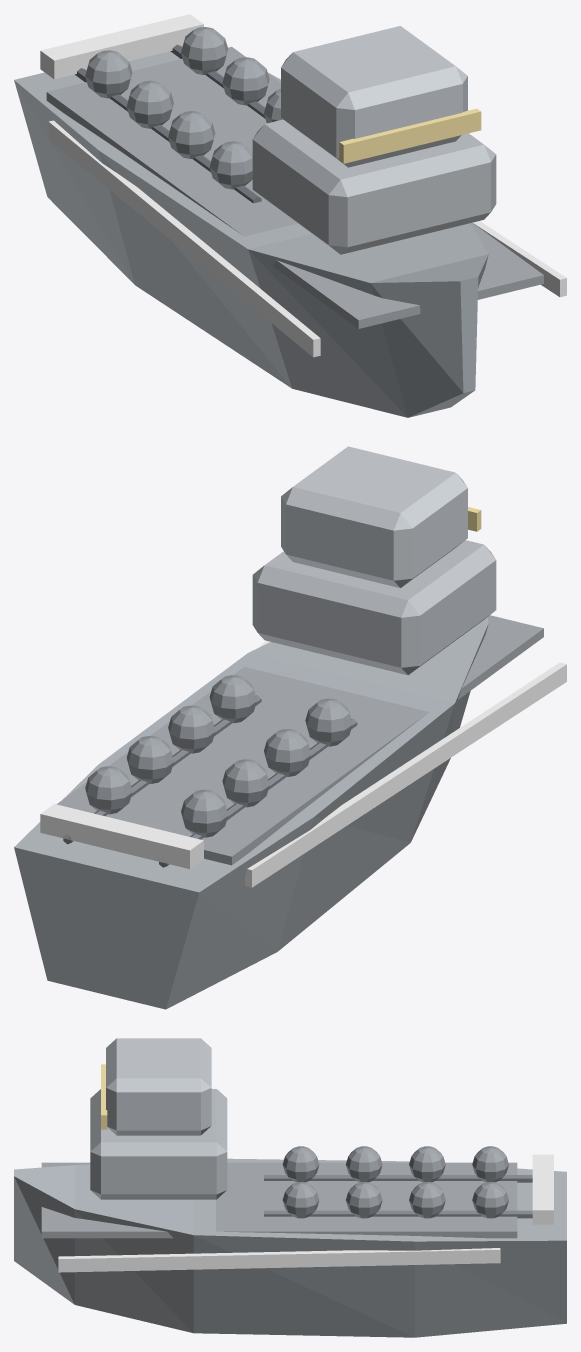
Rendered from minelayer.glb.
3 renders of one model, top to bottom at view 1: azimuth 30°, elevation 25°; view 2: azimuth 150°, elevation 25°; view 3: azimuth 270°, elevation 25°, orthographic. The views are drawn at different scales.
Visible parts, largest first — view 1: main; view 2: main; view 3: main.
Boxes of the visible parts, left/top/right/bottom form: main: left=14, top=14, right=566, bottom=417; main: left=14, top=446, right=566, bottom=1009; main: left=14, top=1038, right=566, bottom=1337.
Size of the model in its own units: 0.424 by 0.53 by 1.05.
